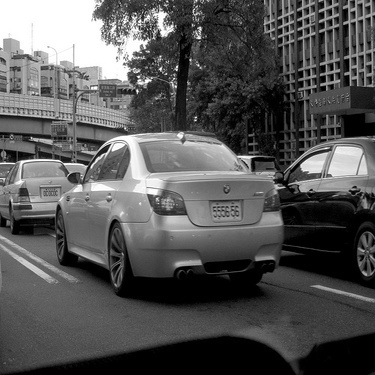car: (50, 127, 284, 300), (269, 126, 374, 290), (1, 147, 80, 241), (225, 144, 297, 201), (50, 154, 97, 194), (1, 154, 43, 189)
